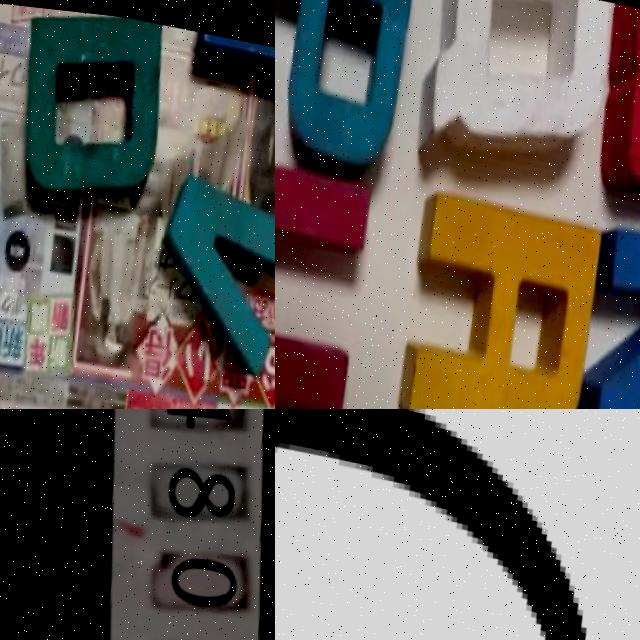0: (155, 528, 261, 611)
3: (155, 619, 258, 640)
4: (148, 409, 256, 435)
8: (154, 440, 258, 524)
D: (14, 1, 169, 216)
G: (275, 409, 640, 640)
N: (584, 195, 640, 409)
P: (275, 0, 421, 166)
R: (397, 177, 606, 409)
U: (275, 151, 372, 409)
V: (150, 165, 275, 374)
W: (596, 0, 640, 202)
